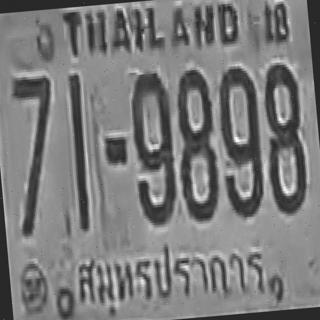N01: (66, 72, 92, 229)
N07: (8, 72, 62, 234), (10, 72, 58, 189)
N08: (259, 61, 309, 215), (171, 67, 221, 221)
N09: (126, 68, 178, 225), (214, 65, 266, 219)
P57: (71, 227, 270, 318)
